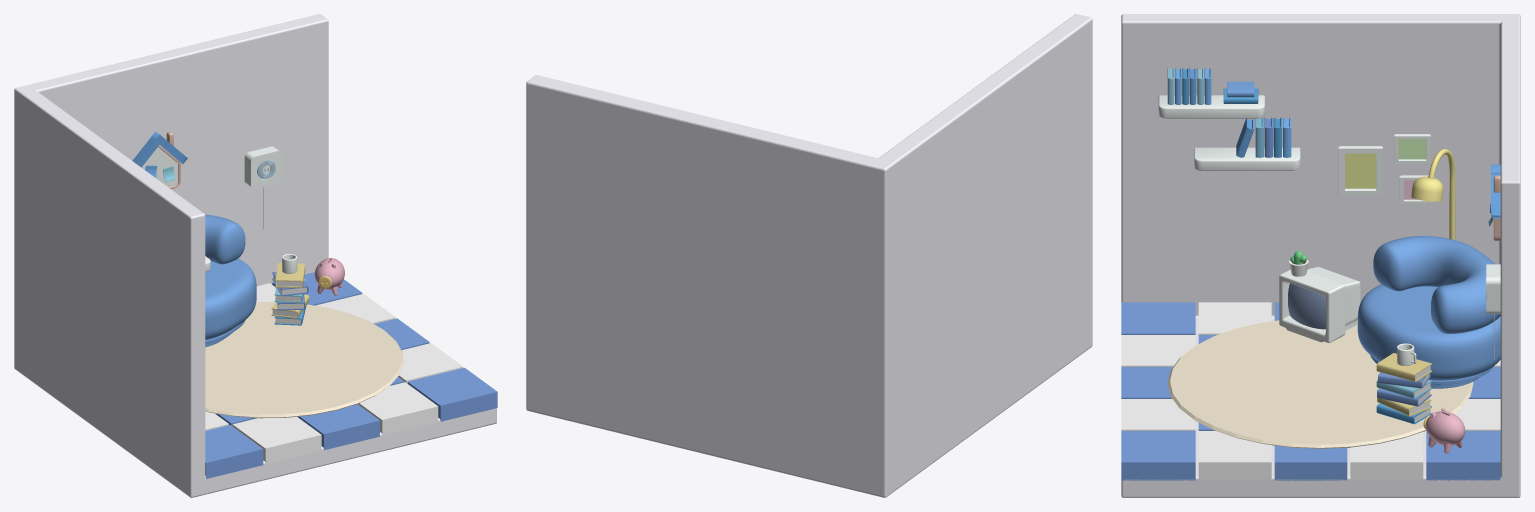
Rendered from marineRoomFull.glb.
3 renders of one model, left to right at view 1: azimuth 30°, elevation 25°; view 2: azimuth 150°, elevation 25°; view 3: azimuth 270°, elevation 25°, orthographic. The views are drawn at different scales.
Visible parts, largest first — view 1: Carpet 1, Cube.101, Sphere.010, Cube.103, Cube.105; view 2: Carpet 1; view 3: Carpet 1, Cube.086, Cube.088, Sphere.010, Cube.101, Cube.100, Cube.087.
Part boxes in pixels (box(x1,y1,x2,y2)): Carpet 1: box(14, 14, 497, 497); Cube.101: box(244, 146, 281, 188); Sphere.010: box(314, 258, 344, 295); Cube.103: box(132, 131, 187, 167); Cube.105: box(141, 147, 178, 187); Carpet 1: box(526, 14, 1092, 497); Carpet 1: box(1121, 14, 1520, 497); Cube.086: box(1194, 147, 1300, 170); Cube.088: box(1158, 95, 1264, 118); Sphere.010: box(1425, 407, 1465, 453); Cube.101: box(1486, 264, 1500, 313); Cube.100: box(1227, 81, 1254, 97); Cube.087: box(1236, 118, 1254, 157).
Size of the model in its own units: 4 by 3.5 by 4.
